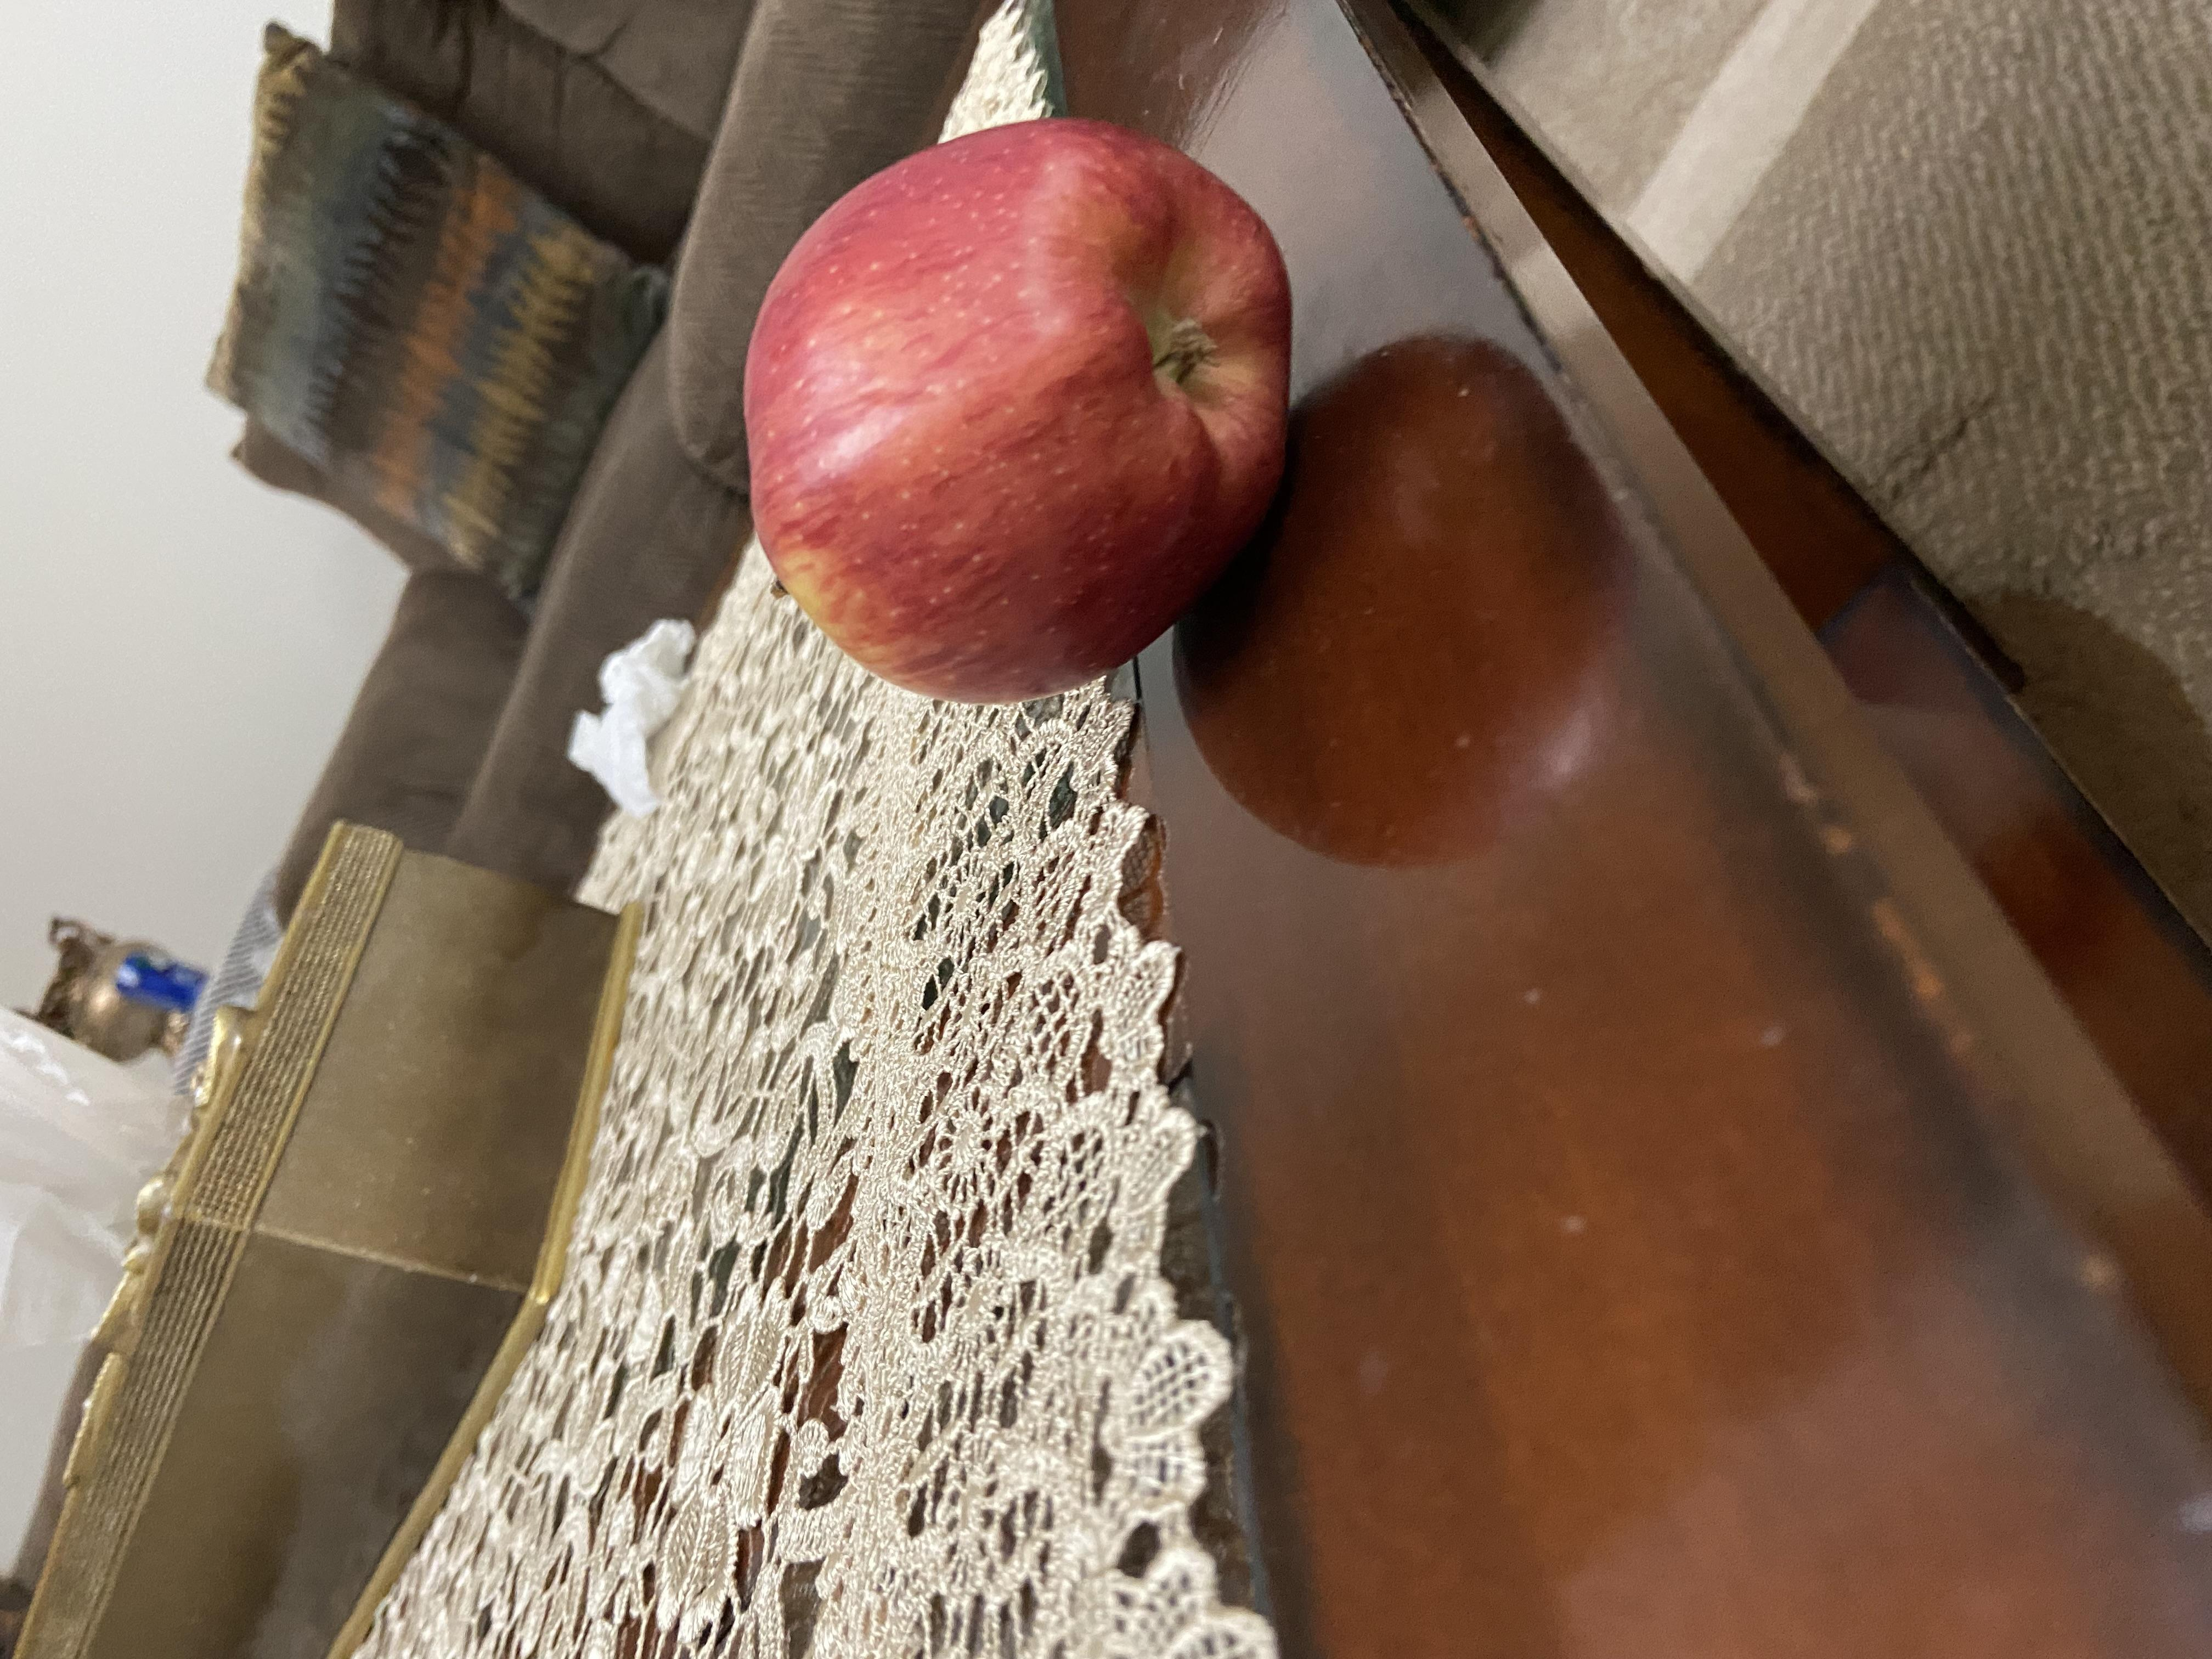Apple: (1291, 544, 2078, 988)
